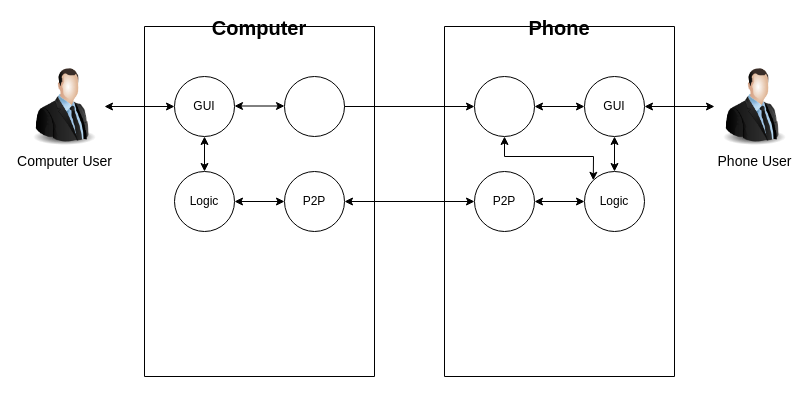
Image size: 812x394. Some labels were removed from this diagram. Here are the shapes that lost their labels. From the top down, the centre of each, then its label:
the point at 314,106: QRCode
the point at 504,106: Camera
